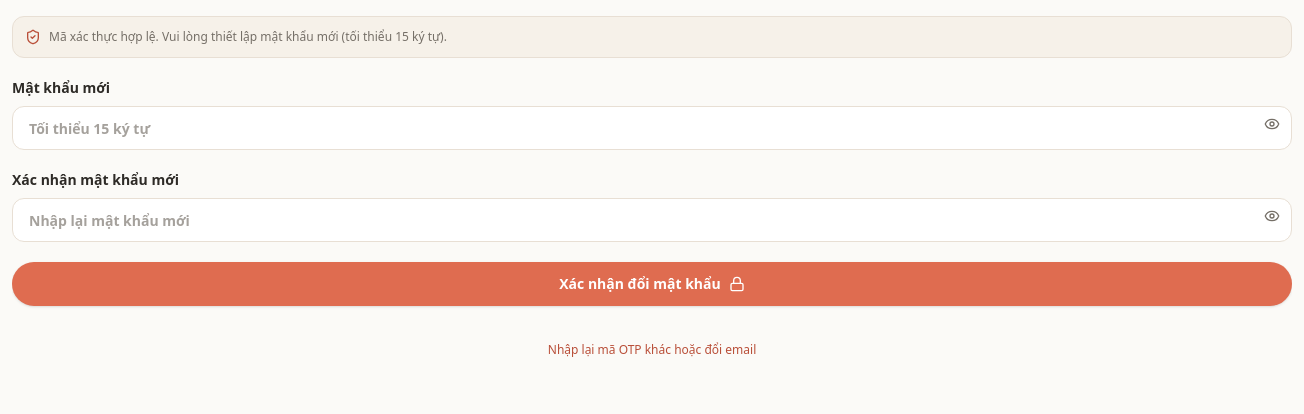
Test case: ResetPasswordForm › rejects password shorter than 15 characters
The image size is (1304, 414).
Type "short" into the password field labelled "Mật khẩu mới" at (652, 128), box [12,106,1292,150]
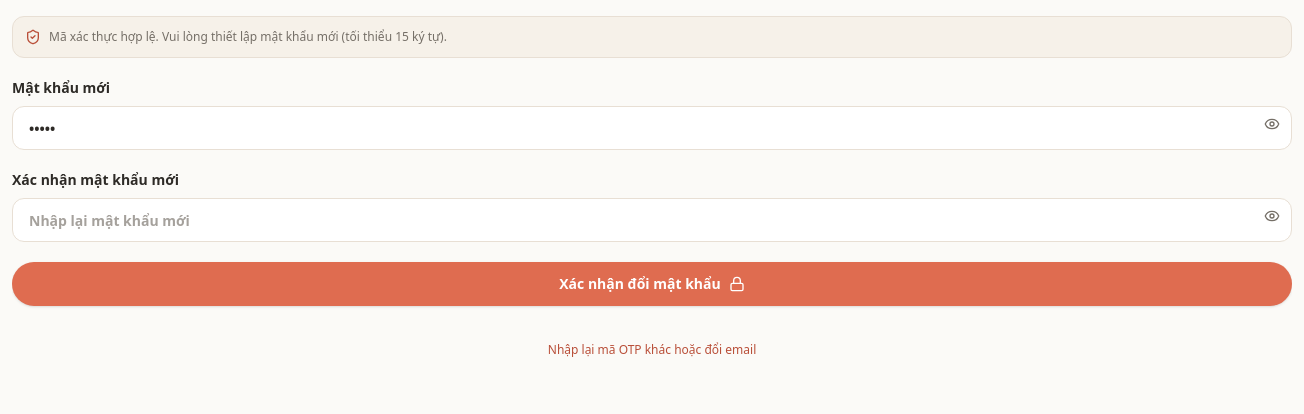
Type "short" into the password field labelled "Xác nhận mật khẩu mới" at (652, 220), box [12,198,1292,242]
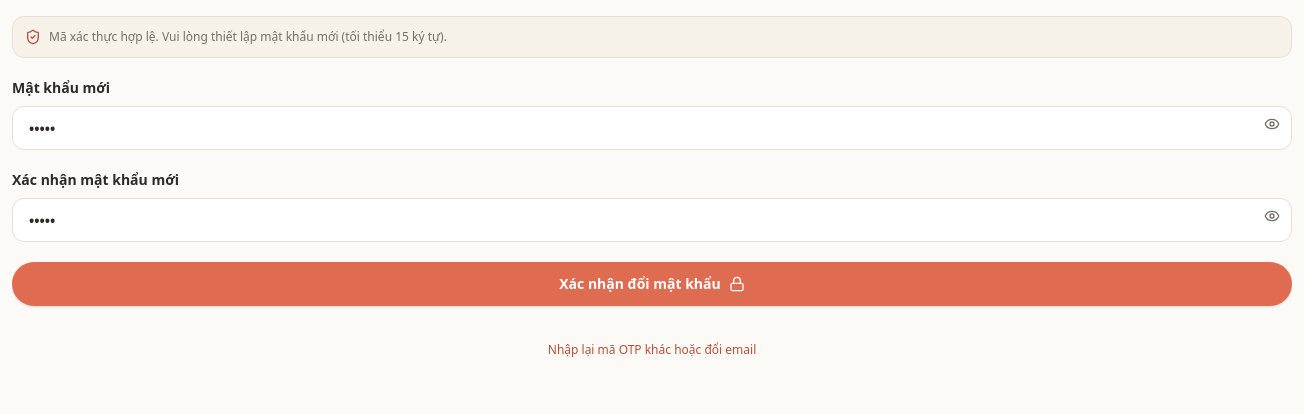
Submit the form named "Xác nhận đổi mật khẩu"
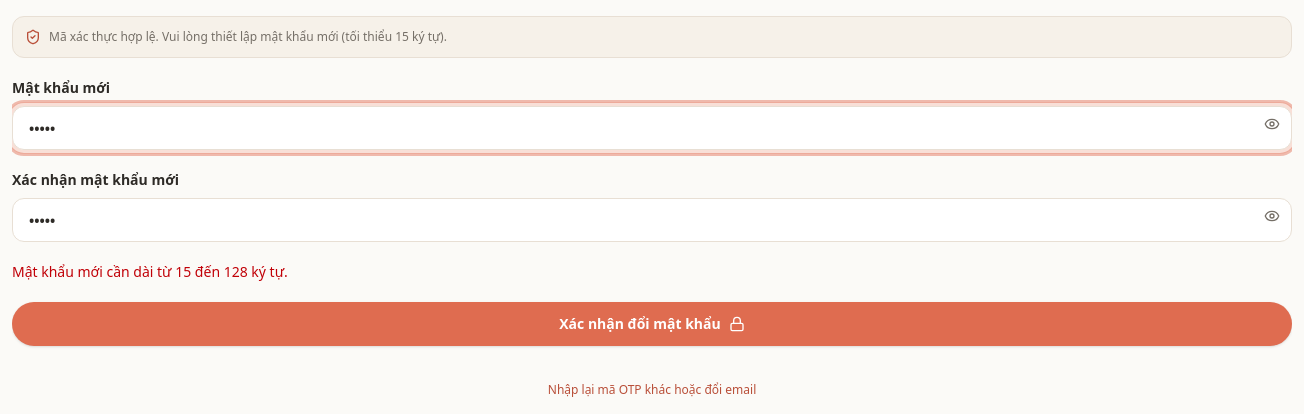
Now the message reads "Mật khẩu mới cần dài từ 15 đến 128 ký tự.", box [12,262,288,281]
